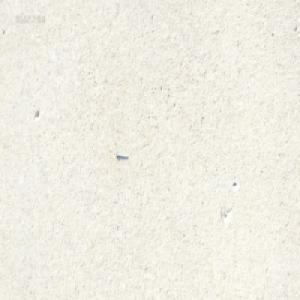Nail: (114, 150, 127, 158)
